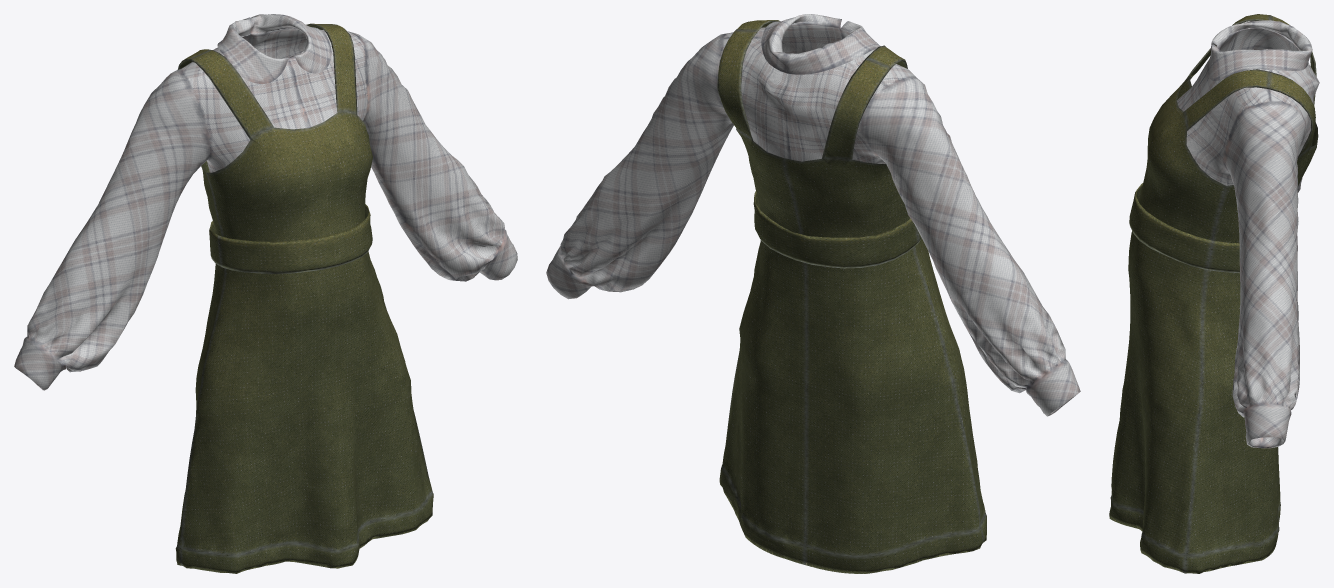
The model's file is model_backup.glb.
The picture shows the model from 3 angles, left to right: view 1: azimuth 30°, elevation 25°; view 2: azimuth 150°, elevation 25°; view 3: azimuth 270°, elevation 25°; orthographic projection. The views are drawn at different scales.
Parts seen in each view (by area): view 1: skirt, shirt; view 2: skirt, shirt; view 3: skirt, shirt.
Part boxes in pixels (<box>): skirt: <box>175,23,433,573</box>; shirt: <box>14,14,517,390</box>; skirt: <box>717,20,986,573</box>; shirt: <box>546,14,1080,416</box>; skirt: <box>1109,14,1318,573</box>; shirt: <box>1177,20,1319,448</box>.
Size of the model in its own units: 723 by 693 by 266.
Materials: 2 (2 with a texture image).
